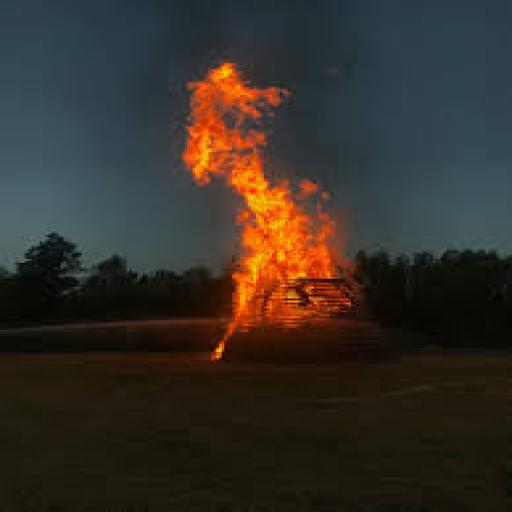smoke: (161, 57, 399, 409)
